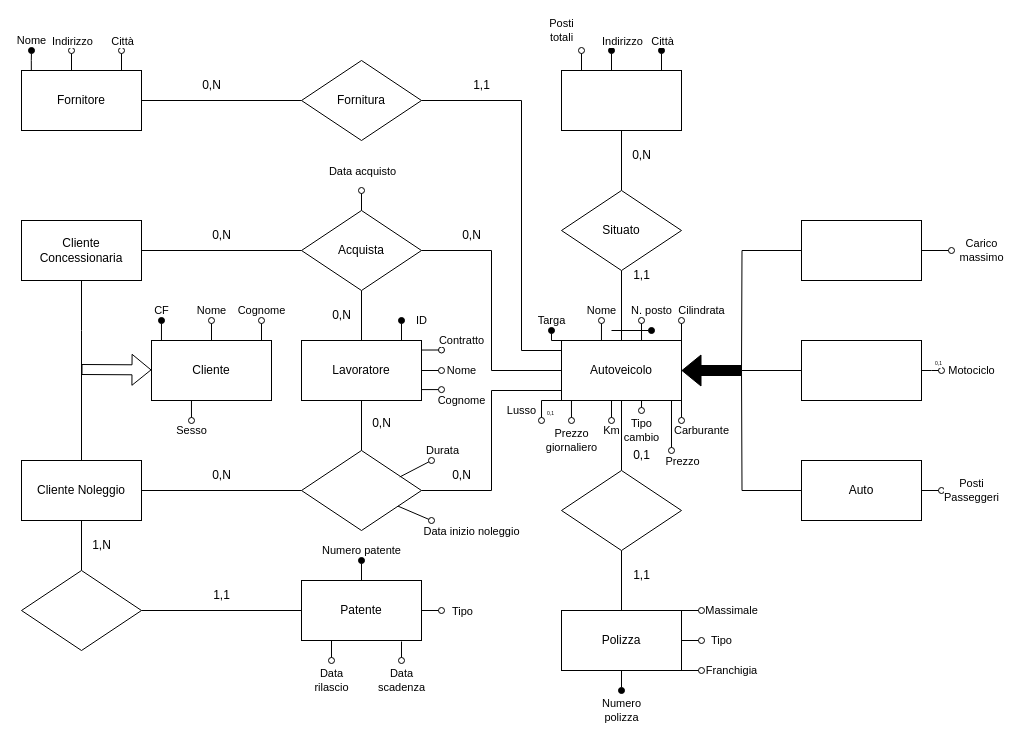
Image size: 1021x740. Some labels were removed from this diagram. The centre of each missing label's shape, as x and y in pixels:
Assicurato: (621,510)
Furgone: (861,250)
Moto: (861,370)
Noleggio: (361,490)
Parcheggio: (621,100)
Possiede: (81,610)
